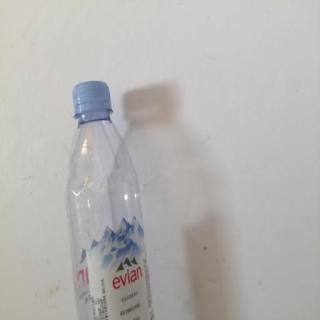Plastic-bottle: (65, 79, 158, 320)
